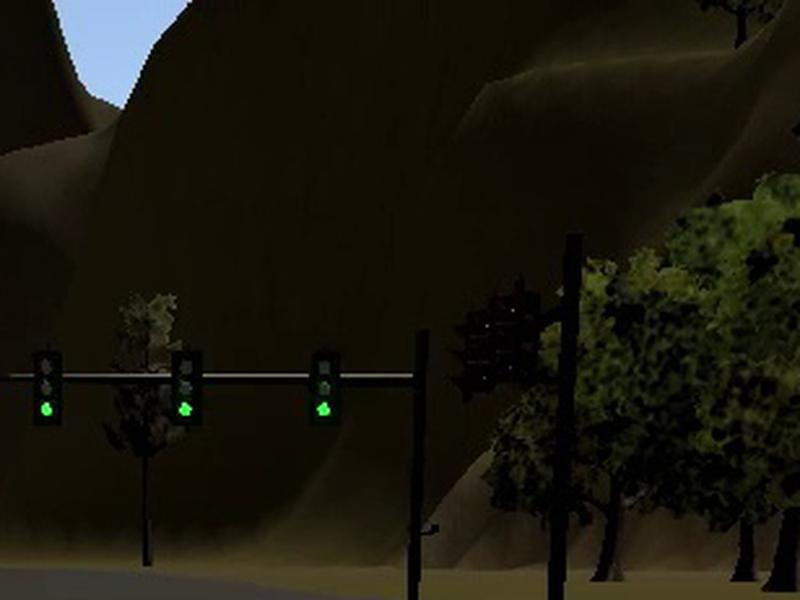Green: (171, 351, 203, 425), (31, 349, 62, 425), (310, 353, 341, 424)
